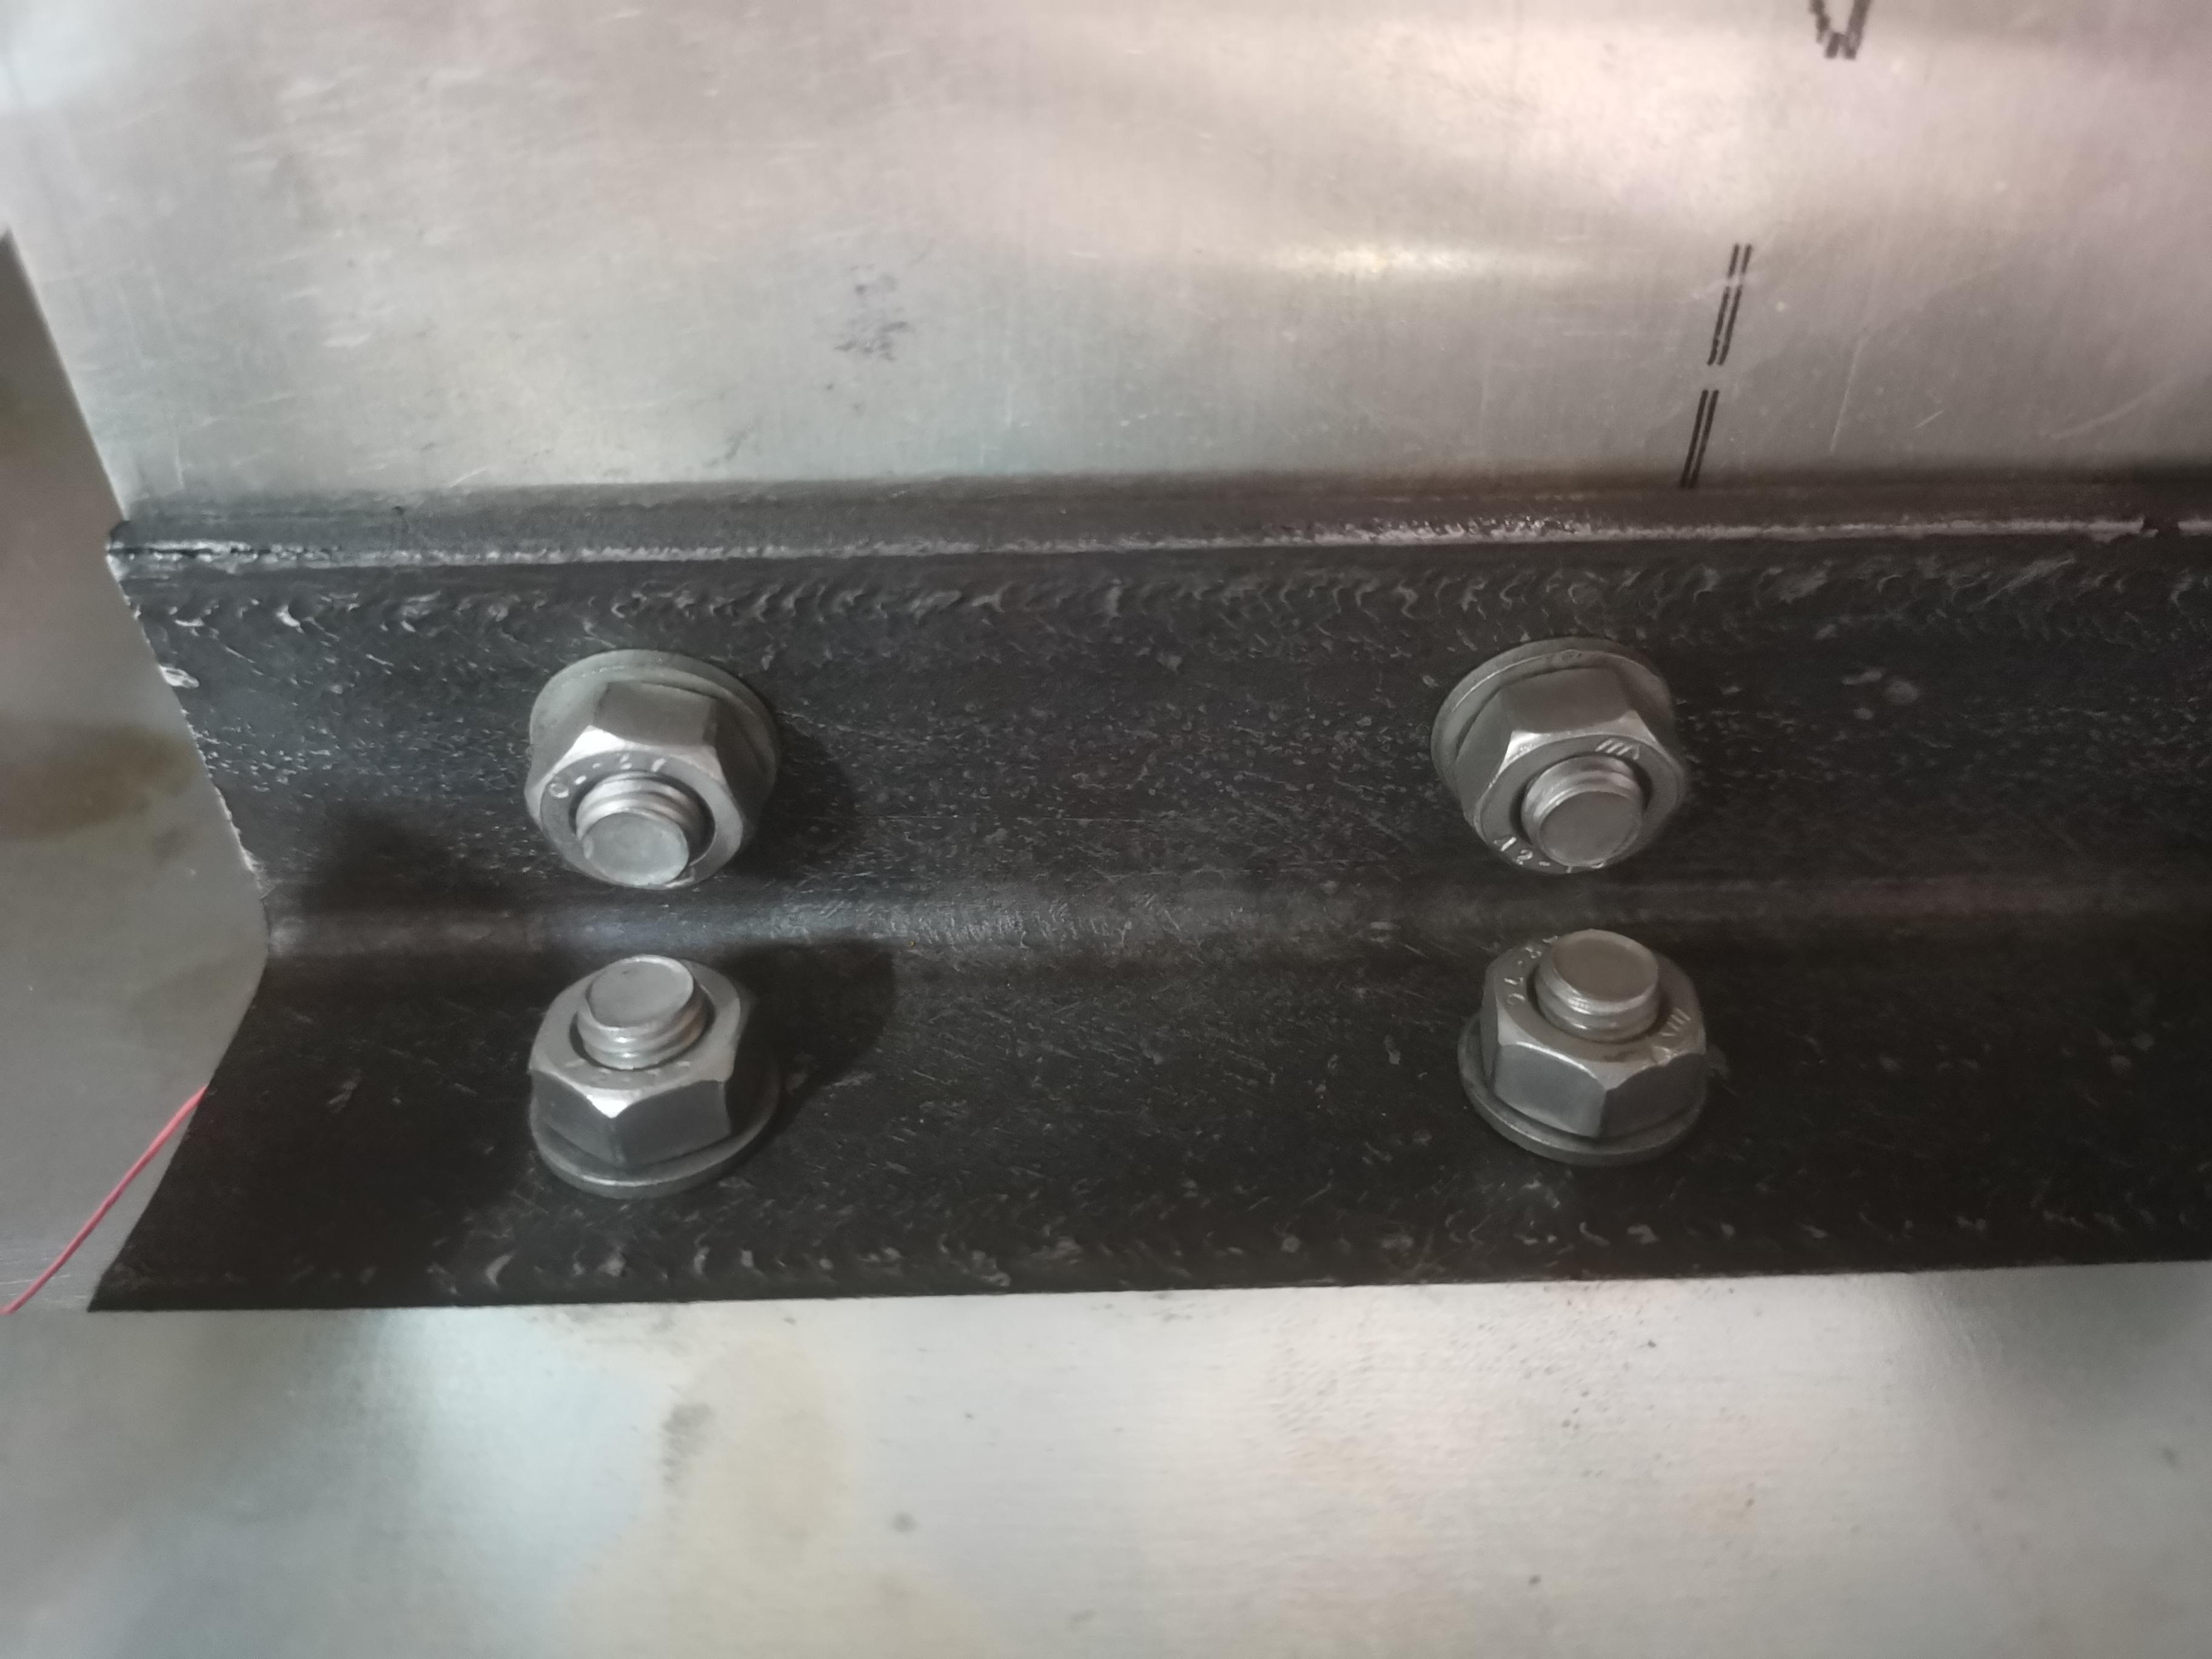bolt_b: (524, 950, 773, 1173), (517, 681, 770, 892), (1442, 667, 1695, 878), (1477, 929, 1710, 1141)
